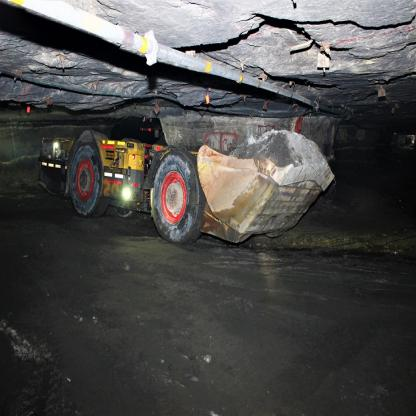bull_dozer/loader/grader: (39, 103, 330, 263)
